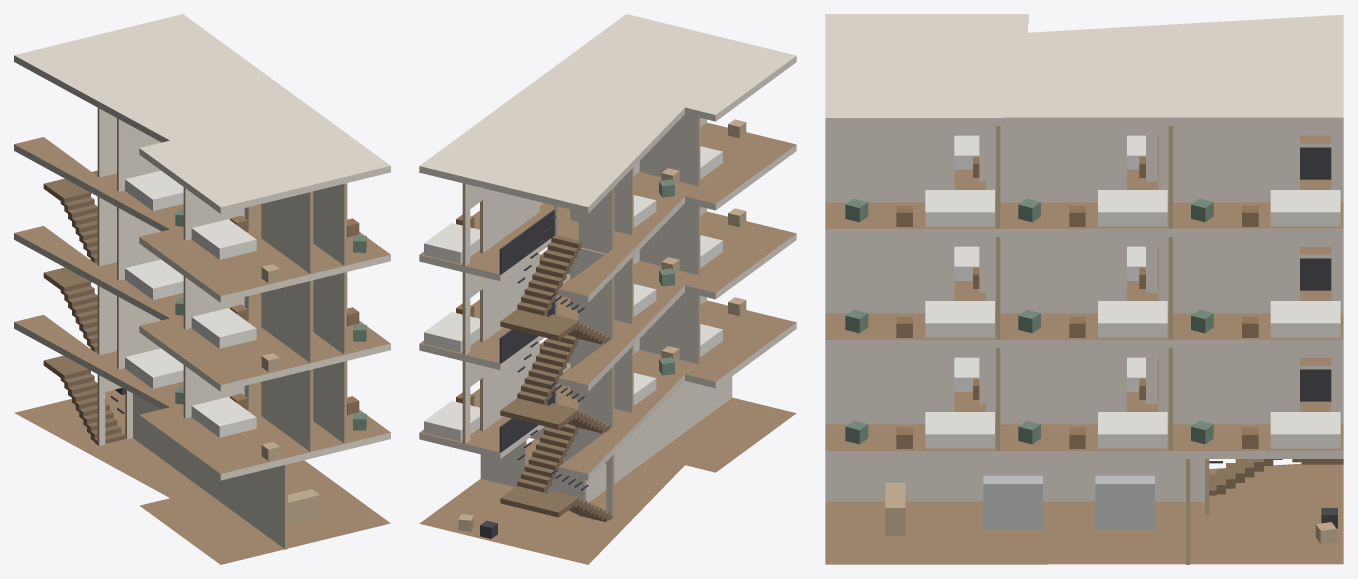
The model's file is interior.glb.
3 views of the same model, side by side, from view 1: azimuth 30°, elevation 25°; view 2: azimuth 150°, elevation 25°; view 3: azimuth 270°, elevation 25° (orthographic). The views are drawn at different scales.
Visible parts, largest first — view 1: slabs, partitions, stair, coarse-s3, coarse-s2, coarse-s1, coarse-s0; view 2: slabs, partitions, stair, coarse-s1, coarse-s2, coarse-s3, coarse-s0; view 3: slabs, partitions, coarse-s2, coarse-s1, coarse-s3, coarse-s0, stair.
Boxes of the visible parts, x1=… form: slabs: x1=14, y1=14, x2=390, y2=564; partitions: x1=97, y1=108, x2=347, y2=549; stair: x1=43, y1=170, x2=124, y2=444; coarse-s3: x1=125, y1=170, x2=366, y2=282; coarse-s2: x1=125, y1=259, x2=366, y2=371; coarse-s1: x1=125, y1=348, x2=366, y2=460; coarse-s0: x1=115, y1=388, x2=319, y2=524; slabs: x1=419, y1=14, x2=796, y2=564; partitions: x1=462, y1=114, x2=732, y2=517; stair: x1=499, y1=209, x2=613, y2=522; coarse-s1: x1=424, y1=297, x2=746, y2=441; coarse-s2: x1=424, y1=208, x2=746, y2=352; coarse-s3: x1=424, y1=119, x2=746, y2=263; coarse-s0: x1=458, y1=514, x2=497, y2=538; slabs: x1=825, y1=14, x2=1343, y2=564; partitions: x1=825, y1=126, x2=1343, y2=564; coarse-s2: x1=845, y1=246, x2=1340, y2=337; coarse-s1: x1=845, y1=357, x2=1340, y2=448; coarse-s3: x1=845, y1=135, x2=1340, y2=226; coarse-s0: x1=885, y1=475, x2=1337, y2=544; stair: x1=1209, y1=147, x2=1343, y2=495.
Size of the model in its own units: 7.02 by 14.1 by 14.81.
